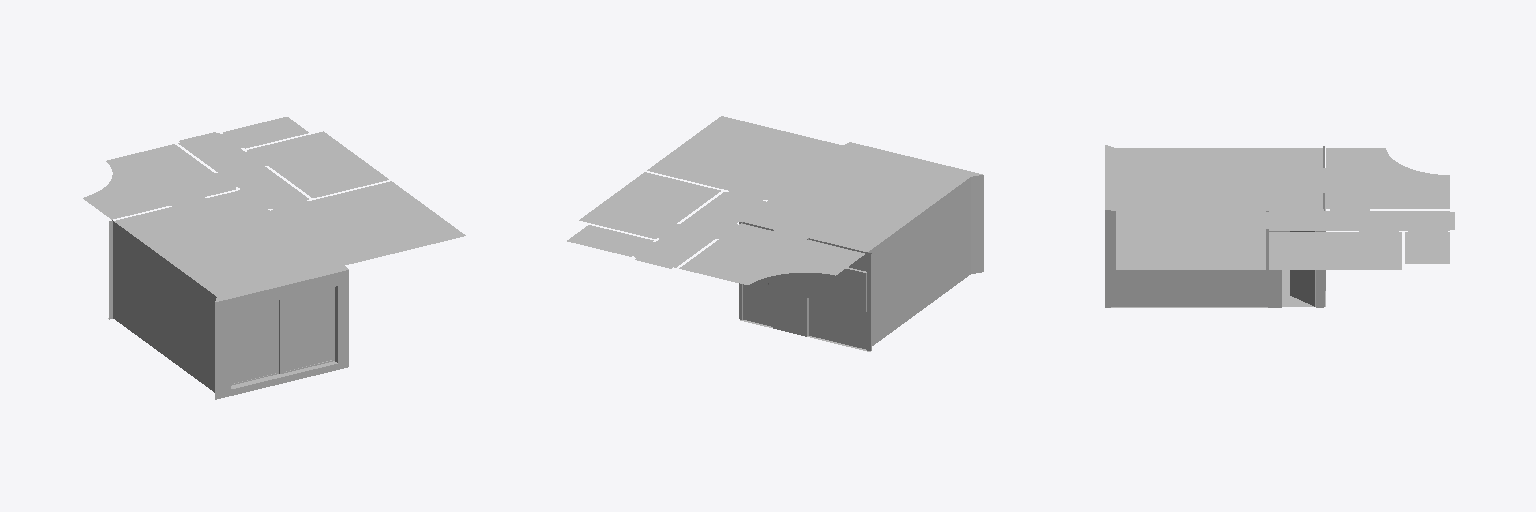
Rendered from houseAfterJoin.obj.
3 views of the same model, side by side, from view 1: azimuth 30°, elevation 25°; view 2: azimuth 150°, elevation 25°; view 3: azimuth 270°, elevation 25° (orthographic).
Visible parts, largest first — view 1: piece_a_176, room_4_1047, room_2_1043, room_3_1045, room_7_1053, room_6_1051, room_5_1049; view 2: piece_a_176, room_4_1047, room_2_1043, room_3_1045, room_7_1053, room_6_1051, room_5_1049; view 3: room_4_1047, piece_a_176, room_2_1043, room_3_1045, room_7_1053, room_6_1051, room_5_1049.
Boxes of the visible parts, x1=… form: piece_a_176: x1=108, y1=189, x2=348, y2=399; room_4_1047: x1=114, y1=191, x2=340, y2=296; room_2_1043: x1=271, y1=181, x2=465, y2=264; room_3_1045: x1=83, y1=144, x2=235, y2=219; room_7_1053: x1=247, y1=131, x2=388, y2=197; room_6_1051: x1=178, y1=132, x2=308, y2=208; room_5_1049: x1=223, y1=117, x2=308, y2=148; piece_a_176: x1=739, y1=142, x2=983, y2=351; room_4_1047: x1=743, y1=146, x2=969, y2=251; room_2_1043: x1=647, y1=116, x2=842, y2=199; room_3_1045: x1=679, y1=223, x2=864, y2=284; room_7_1053: x1=579, y1=172, x2=720, y2=238; room_6_1051: x1=634, y1=192, x2=765, y2=268; room_5_1049: x1=567, y1=225, x2=653, y2=256; room_4_1047: x1=1116, y1=148, x2=1324, y2=209; piece_a_176: x1=1105, y1=145, x2=1325, y2=307; room_2_1043: x1=1116, y1=211, x2=1267, y2=269; room_3_1045: x1=1325, y1=148, x2=1449, y2=209; room_7_1053: x1=1269, y1=232, x2=1401, y2=269; room_6_1051: x1=1268, y1=210, x2=1454, y2=231; room_5_1049: x1=1405, y1=232, x2=1449, y2=263.
Bounding box in the file's own units: 9.27 × 3.36 × 10.91.